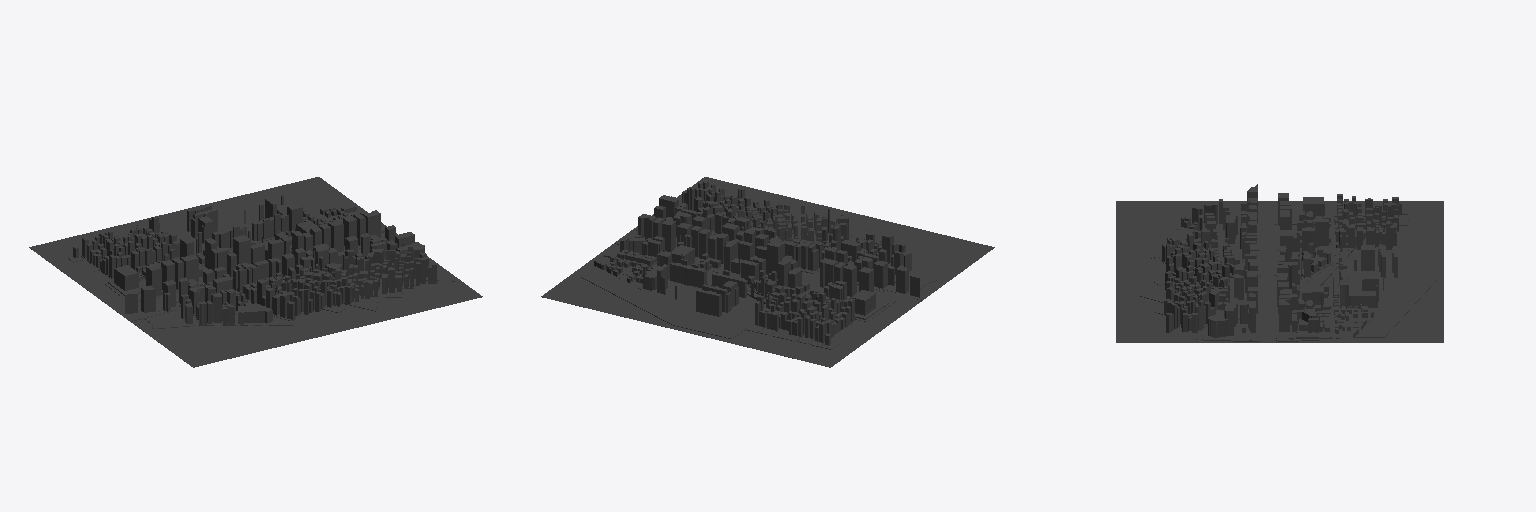
Rendered from city-v7.obj.
3 renders of one model, left to right at view 1: azimuth 30°, elevation 25°; view 2: azimuth 150°, elevation 25°; view 3: azimuth 270°, elevation 25°, orthographic.
Parts seen in each view (by area): view 1: Cube.631, Cube, Cube.775; view 2: Cube.631, Cube, Cube.775; view 3: Cube.631, Cube, Cube.775.
Part boxes in pixels (x1,y1,x2,y2): Cube.631: (73, 195, 436, 324); Cube: (29, 177, 482, 367); Cube.775: (65, 200, 454, 328); Cube.631: (594, 181, 919, 345); Cube: (541, 177, 994, 367); Cube.775: (581, 198, 936, 349); Cube.631: (1162, 184, 1401, 337); Cube: (1116, 201, 1443, 342); Cube.775: (1139, 201, 1436, 341).
Size of the model in its own units: 914 by 105 by 897.